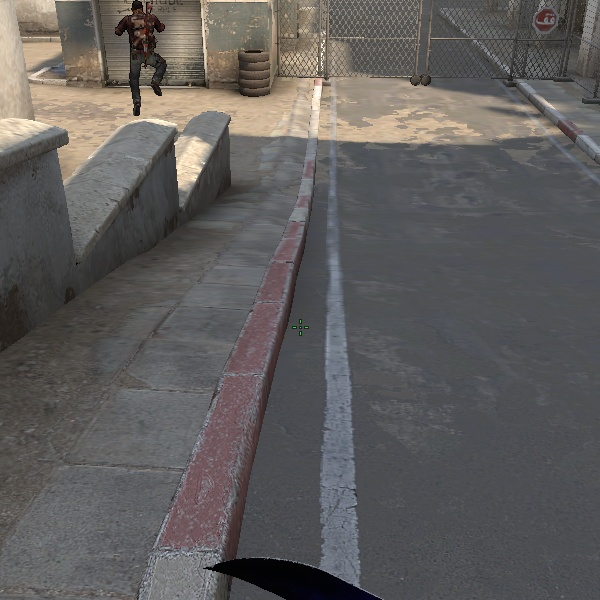t_body: (111, 1, 184, 114)
t_head: (124, 1, 148, 15)
